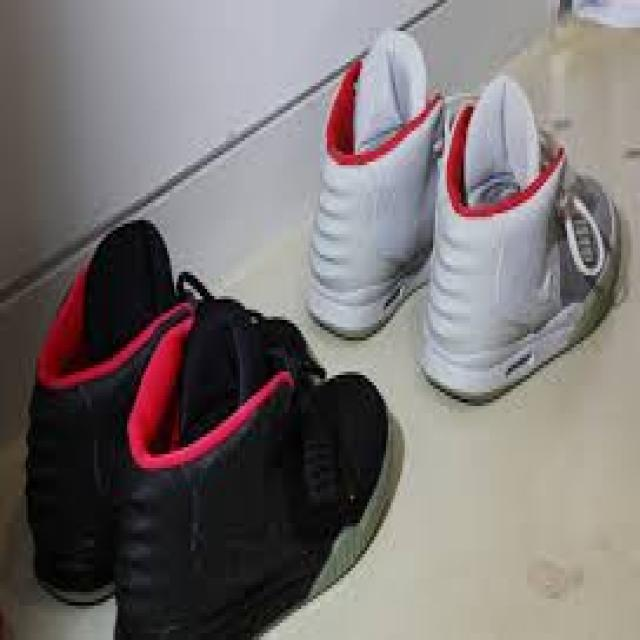shoe: (119, 323, 395, 640), (426, 82, 624, 406), (34, 223, 182, 604), (306, 28, 450, 334)
